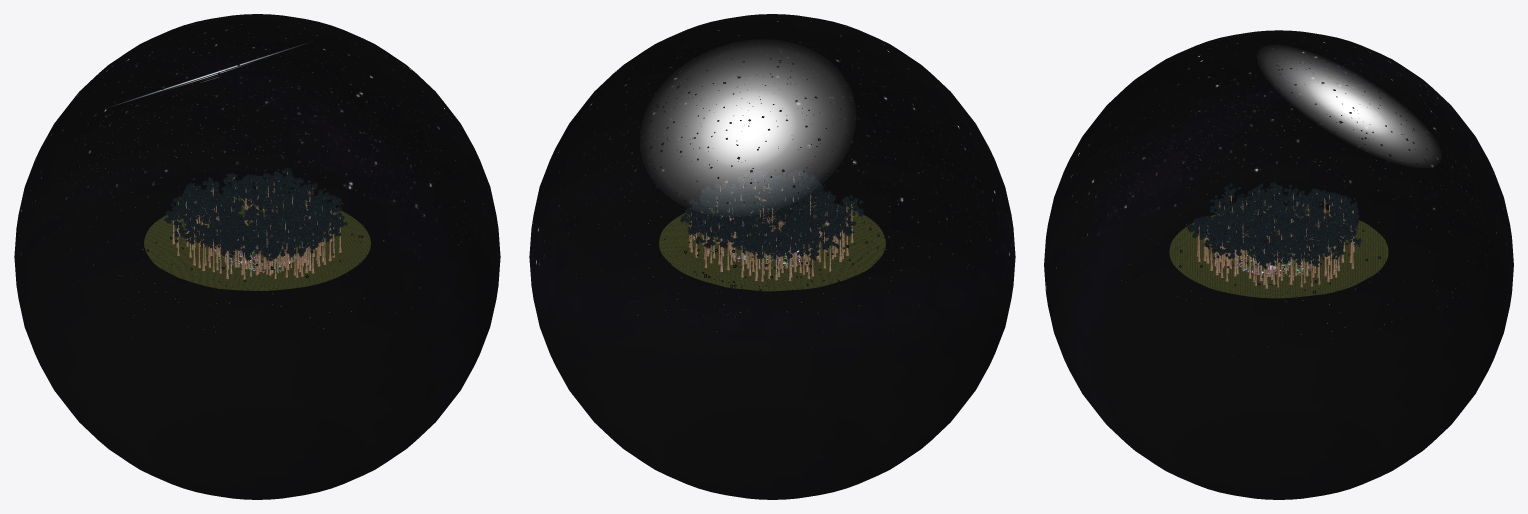
Rendered from forest.glb.
3 views of the same model, side by side, from view 1: azimuth 30°, elevation 25°; view 2: azimuth 150°, elevation 25°; view 3: azimuth 270°, elevation 25° (orthographic). The views are drawn at different scales.
Parts seen in each view (by area): view 1: G_SkyDome, Trees, Ground, G_StarField; view 2: G_SkyDome, G_MoonGlow_Sky, Trees, Ground, G_StarField; view 3: G_SkyDome, Trees, G_MoonGlow_Sky, Ground, G_StarField.
Boxes of the visible parts, x1,y1,x2,y2 form: G_SkyDome: (14, 14, 500, 499); Trees: (163, 167, 347, 279); Ground: (144, 196, 370, 290); G_StarField: (39, 38, 474, 353); G_SkyDome: (529, 14, 1015, 499); G_MoonGlow_Sky: (654, 51, 841, 205); Trees: (680, 169, 863, 281); Ground: (659, 196, 885, 291); G_StarField: (553, 38, 990, 348); G_SkyDome: (1044, 30, 1513, 499); Trees: (1188, 182, 1361, 288); G_MoonGlow_Sky: (1269, 53, 1429, 159); Ground: (1169, 205, 1388, 298); G_StarField: (1069, 55, 1489, 359).
Size of the model in its own units: 300 by 300 by 300.
Materials: 109 (48 with a texture image).
